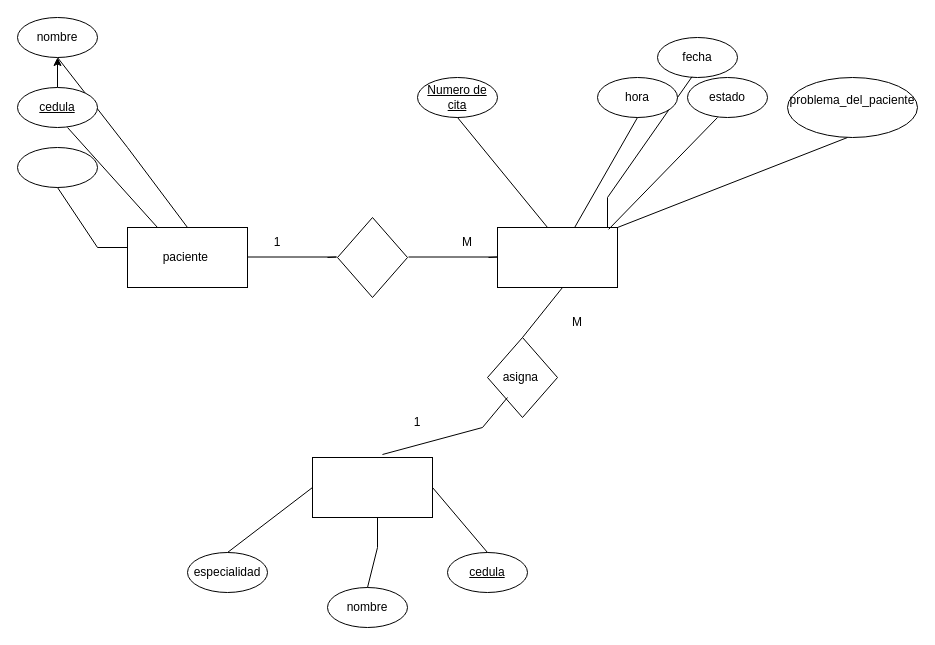
The diagram is 935 pixels wide and 645 high, and some of its shapes have lost their labels. The centre of each missing label's shape, as x and y in pixels:
"cita" goes at (557,257).
"fecha de nacimiento" goes at (57,167).
"Medico" goes at (372,487).
"solicita" goes at (372,257).
